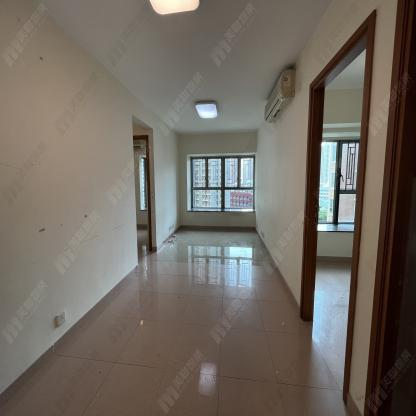AC: (264, 69, 296, 124)
Windowsill: (186, 152, 257, 212)
